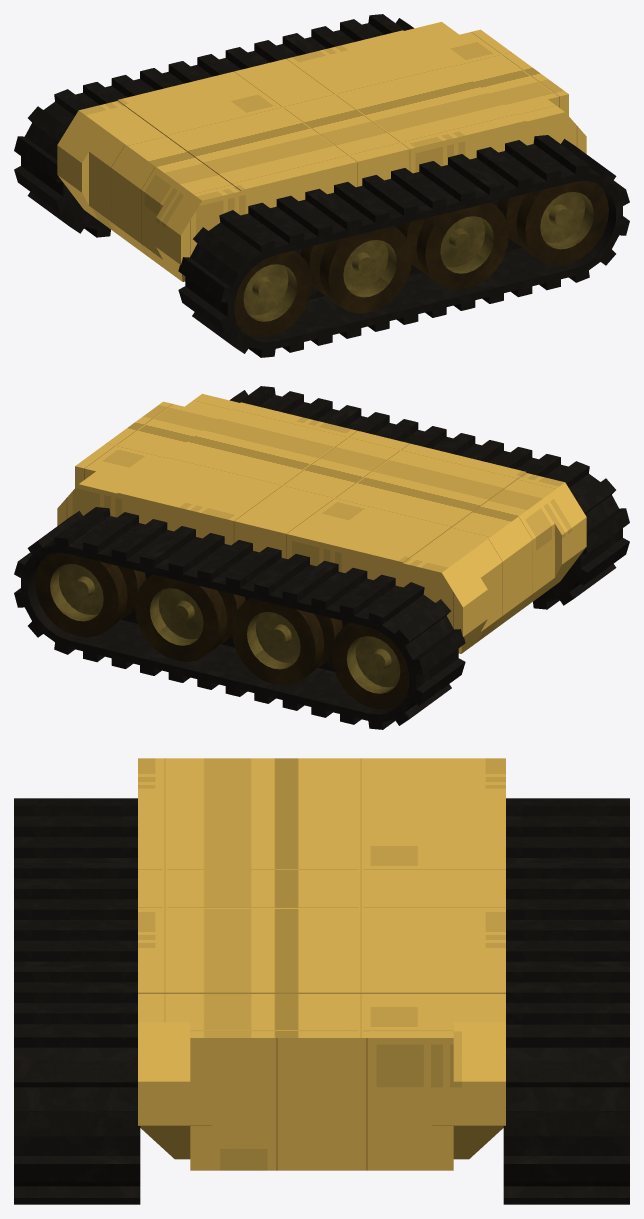
Rendered from hexTankFinalBase.glb.
3 renders of one model, top to bottom at view 1: azimuth 30°, elevation 25°; view 2: azimuth 150°, elevation 25°; view 3: azimuth 270°, elevation 25°, orthographic. The views are drawn at different scales.
Parts seen in each view (by area): view 1: mergedBlocks(Clone); view 2: mergedBlocks(Clone); view 3: mergedBlocks(Clone).
Part boxes in pixels (<box>): mergedBlocks(Clone): <box>14,14,629,357</box>; mergedBlocks(Clone): <box>14,386,629,729</box>; mergedBlocks(Clone): <box>14,758,629,1204</box>.
Bounding box in the file's own units: 1.43 × 0.4484 × 1.26.
Materials: 5 (5 with a texture image).
